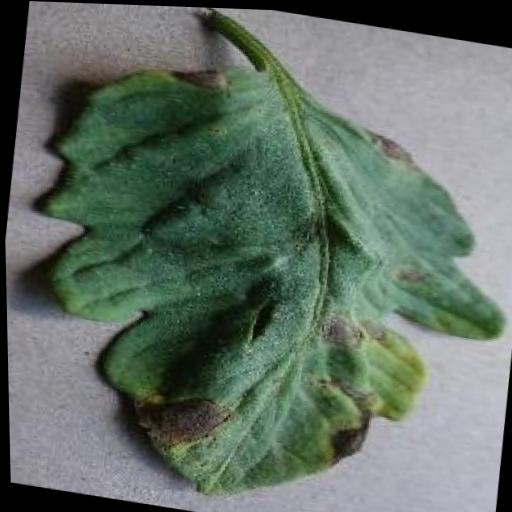Early Blight: (4, 45, 512, 512)
